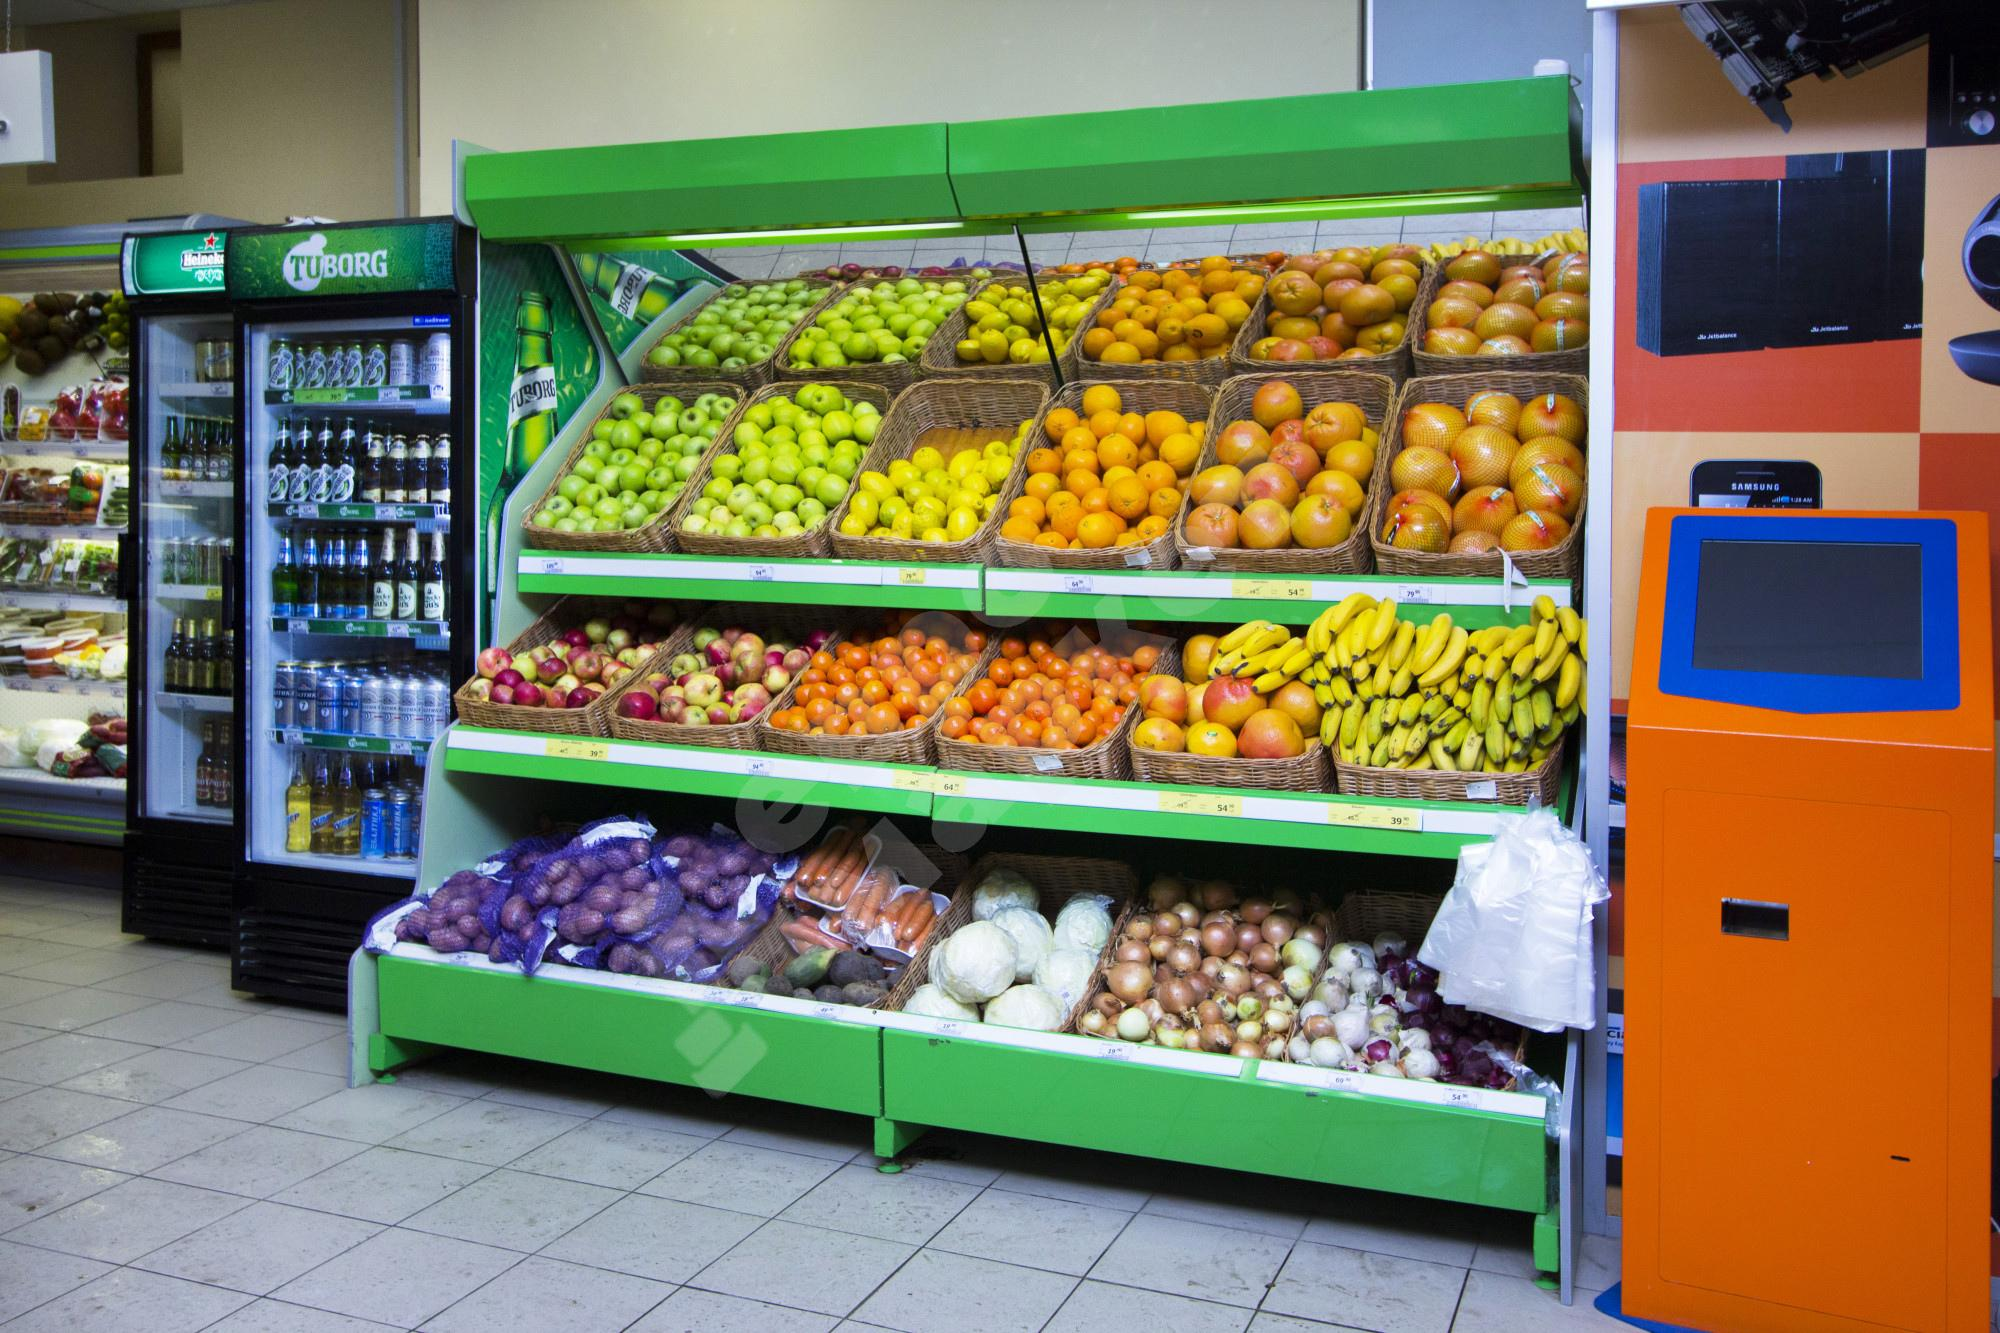banana: (1309, 595, 1593, 777), (1206, 604, 1314, 699)
cabbage: (920, 875, 1115, 1030)
carrot: (782, 830, 940, 957)
green apple: (684, 381, 886, 530), (537, 394, 729, 534), (797, 275, 953, 369), (645, 272, 800, 364)
lemon: (843, 411, 1039, 536), (958, 272, 1106, 370)
mandarin: (769, 634, 981, 739), (949, 643, 1157, 750)
onion: (1105, 864, 1310, 1074), (1313, 942, 1506, 1088)
orange: (1014, 397, 1200, 543), (1091, 265, 1255, 367)
potato: (425, 829, 757, 970)
red apple: (485, 613, 633, 705)
